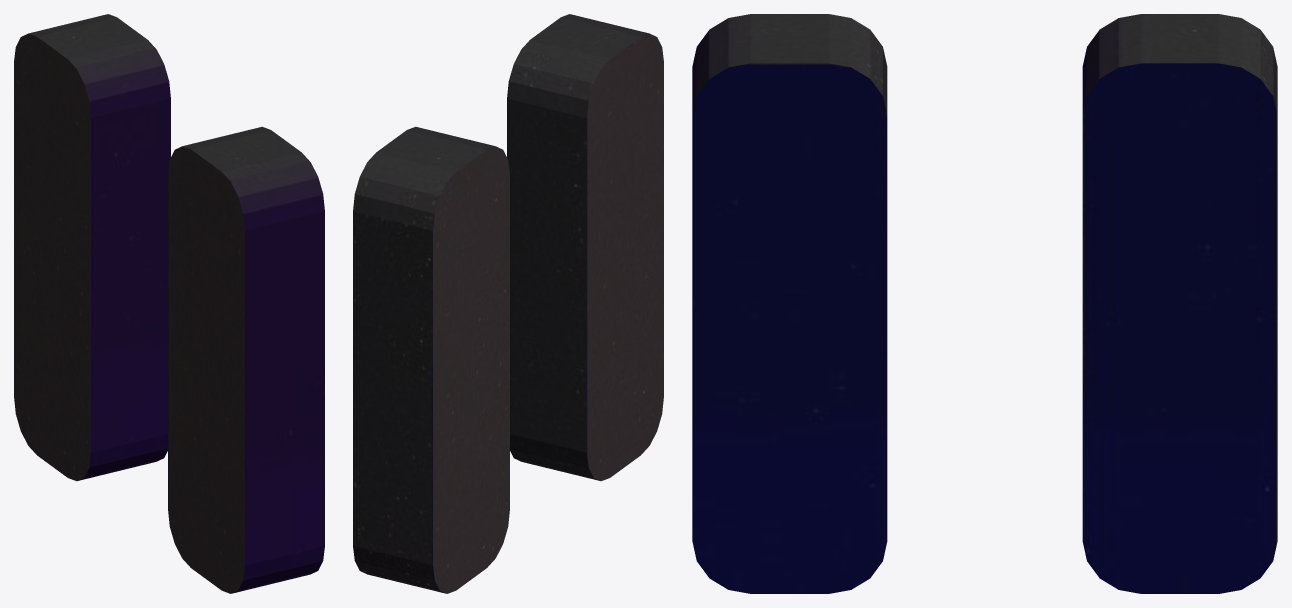
Rendered from touch_pause.glb.
3 renders of one model, left to right at view 1: azimuth 30°, elevation 25°; view 2: azimuth 150°, elevation 25°; view 3: azimuth 270°, elevation 25°, orthographic. The views are drawn at different scales.
Visible parts, largest first — view 1: touch_pause; view 2: touch_pause; view 3: touch_pause.
Part boxes in pixels (x1=…): touch_pause: x1=14, y1=14, x2=324, y2=593; touch_pause: x1=353, y1=14, x2=663, y2=593; touch_pause: x1=692, y1=14, x2=1277, y2=593.
Bounding box in the file's own units: 0.14 × 0.7 × 0.7.
Materials: 1 (1 with a texture image).
